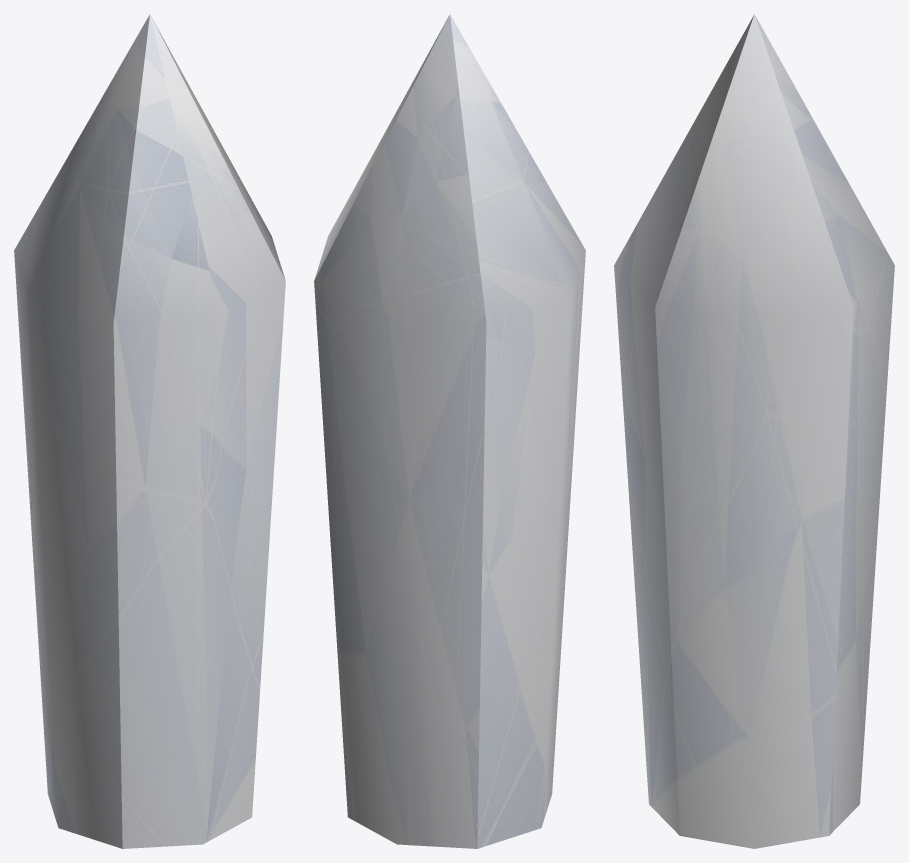
The model's file is crystal.glb.
3 renders of one model, left to right at view 1: azimuth 30°, elevation 25°; view 2: azimuth 150°, elevation 25°; view 3: azimuth 270°, elevation 25°, orthographic.
Visible parts, largest first — view 1: pCube1; view 2: pCube1; view 3: pCube1.
Boxes of the visible parts, x1=… form: pCube1: x1=14, y1=14, x2=285, y2=848; pCube1: x1=314, y1=14, x2=585, y2=848; pCube1: x1=614, y1=14, x2=894, y2=848.
Size of the model in its own units: 1.33 by 4.13 by 1.33.
1 material, 1 textured.
